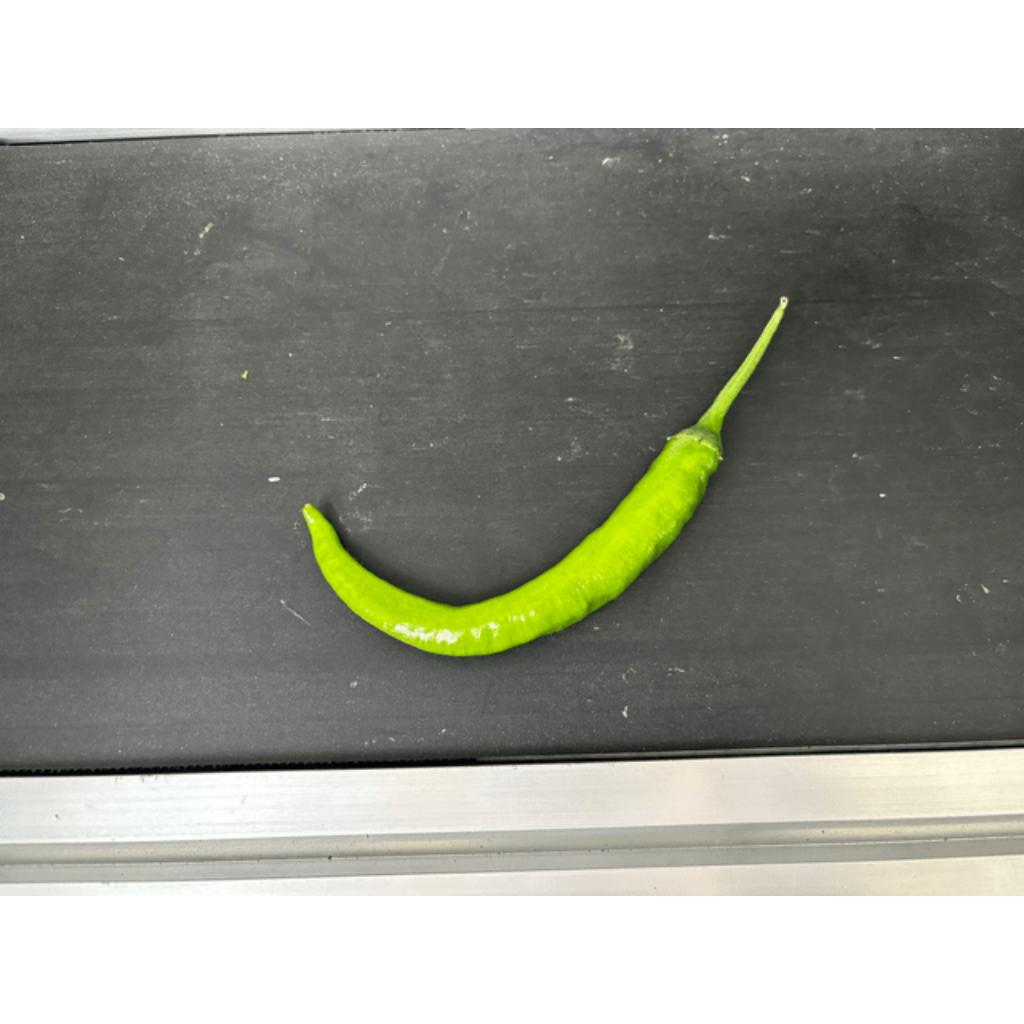chili: (298, 422, 730, 659)
